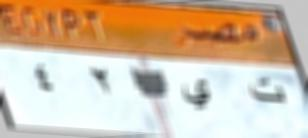2: (84, 60, 121, 100)
4: (29, 60, 58, 100)
thaa: (248, 76, 286, 111)
yaa: (181, 75, 216, 115)
